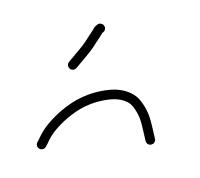n: (30, 86, 175, 154)
